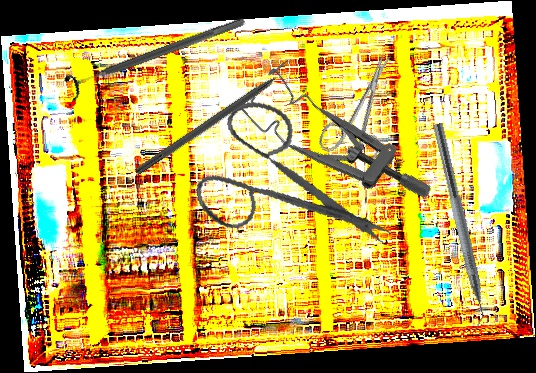Chopper: (418, 122, 494, 335)
Fixation Ring: (61, 7, 250, 104)
Hook Surgical: (133, 60, 300, 179)
Iris Scissors: (181, 79, 396, 280), (315, 42, 417, 171)
Speculum: (233, 43, 436, 249)
